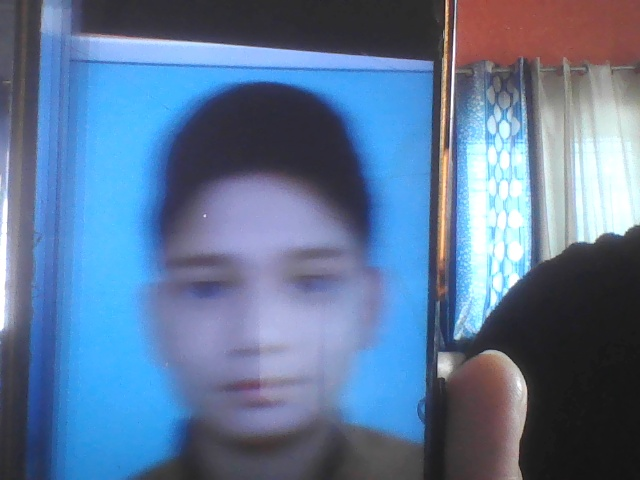fake: (129, 92, 397, 472)
